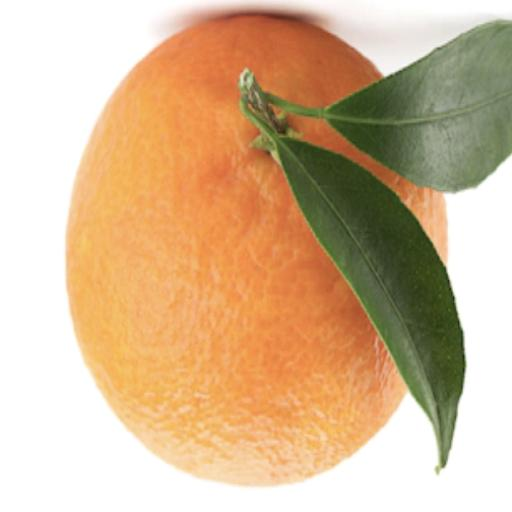orange: (66, 16, 405, 484)
